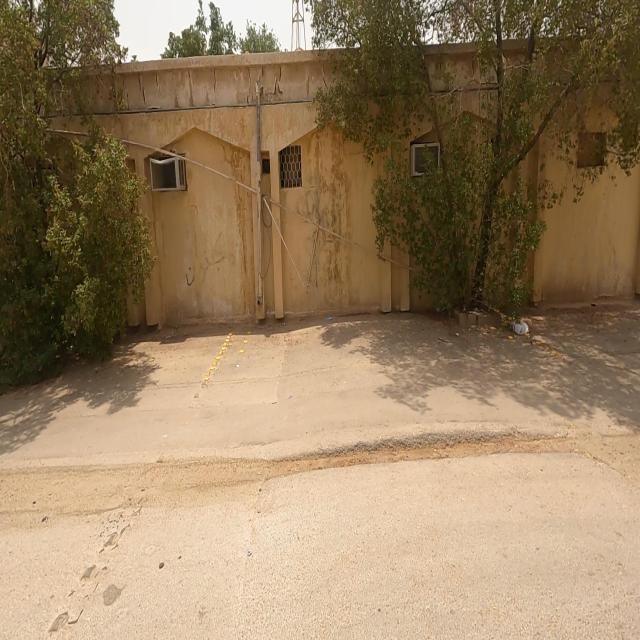Graffiti: (187, 232, 228, 289)
